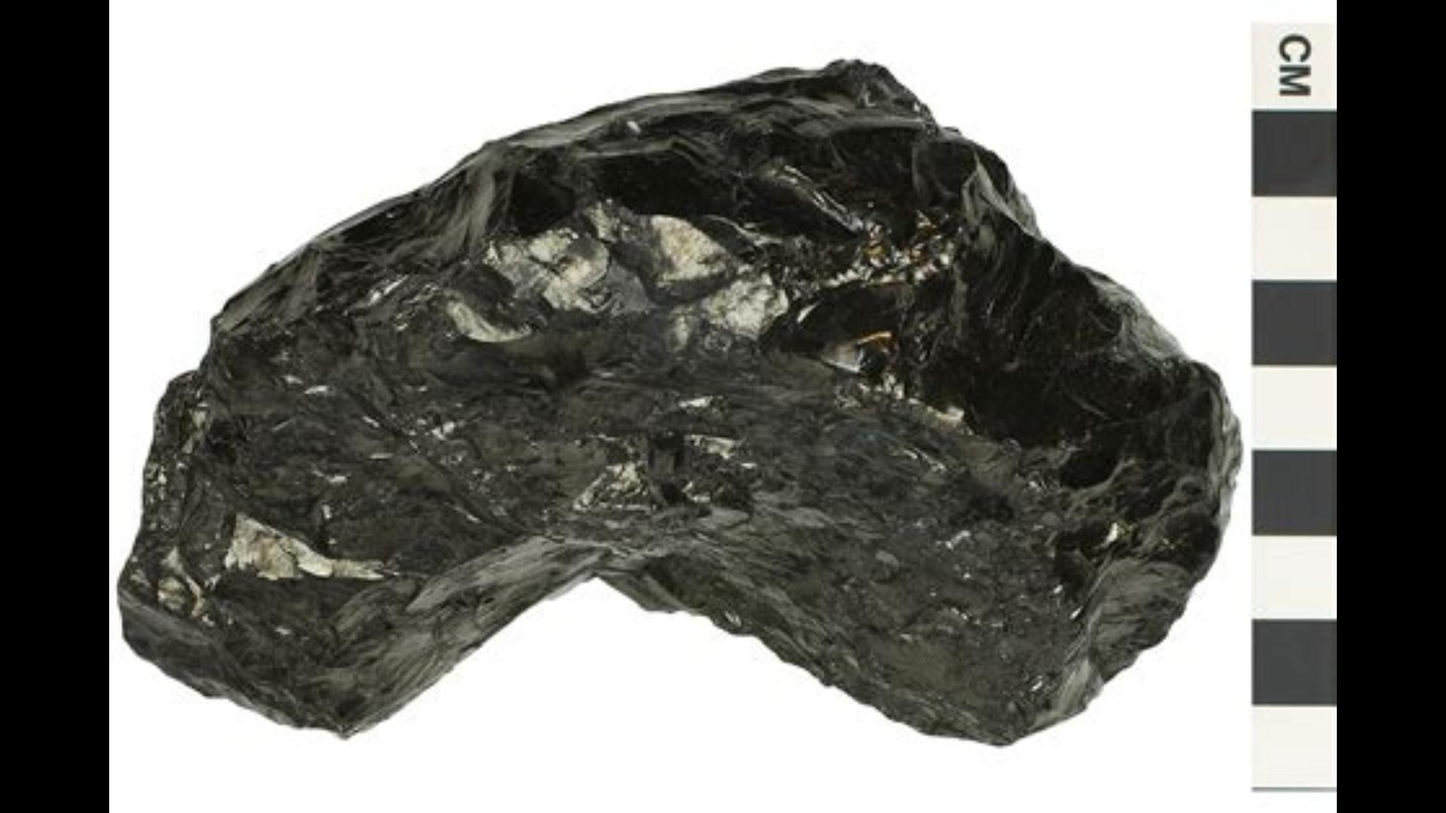rock: (120, 62, 1239, 741)
